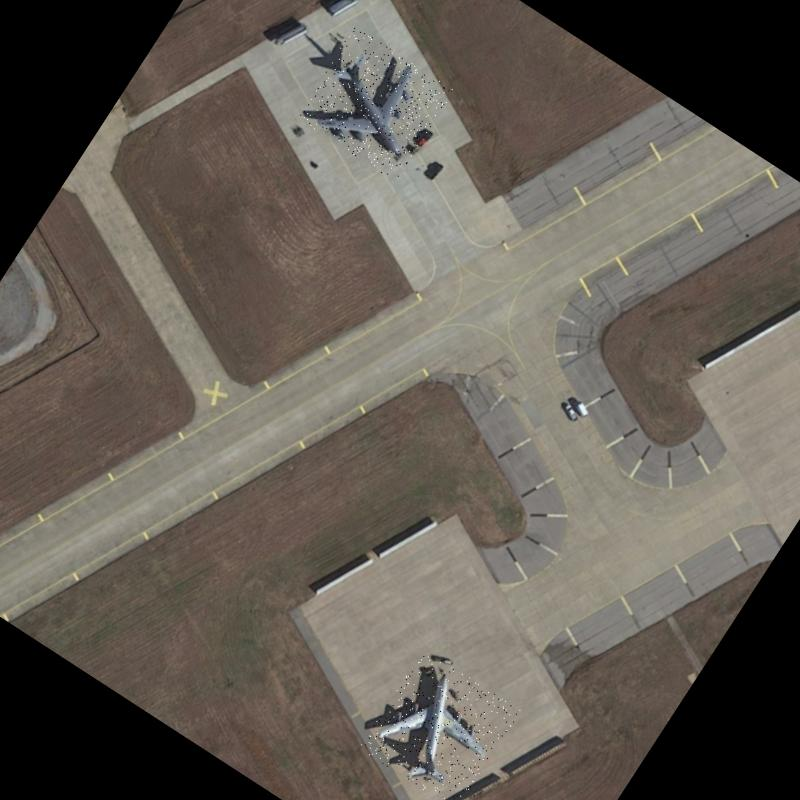A11: (358, 648, 521, 800)
A14: (295, 26, 454, 182)
